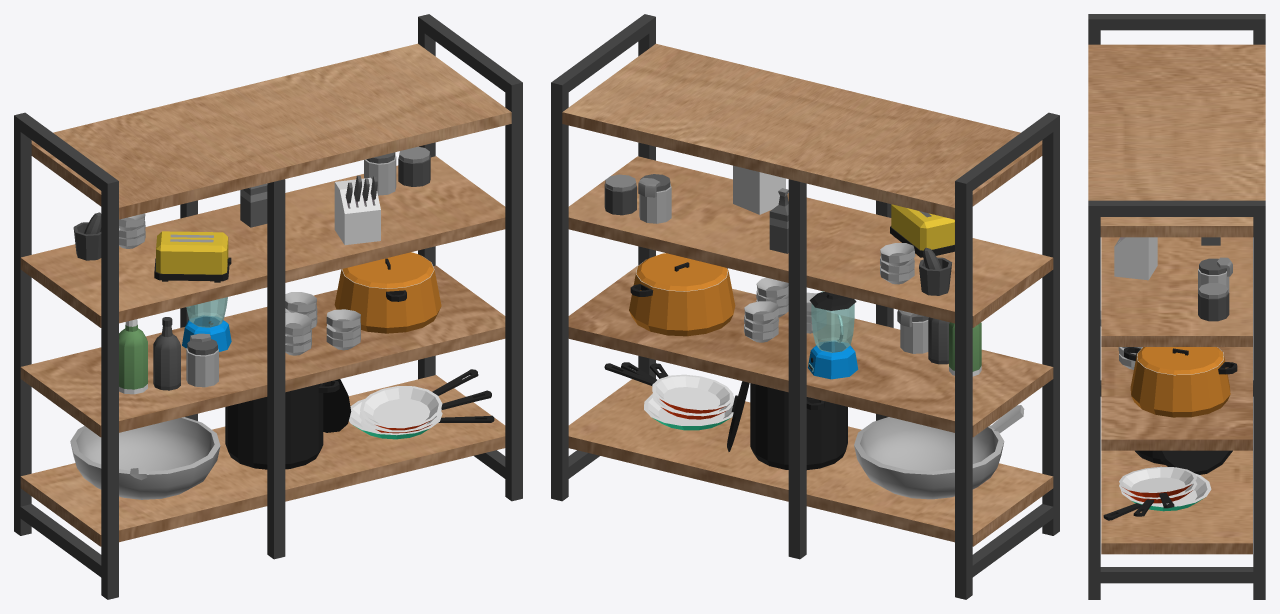
Rendered from Shelf_2.fbx.
3 views of the same model, side by side, from view 1: azimuth 30°, elevation 25°; view 2: azimuth 150°, elevation 25°; view 3: azimuth 270°, elevation 25° (orthographic). The views are drawn at different scales.
Visible parts, largest first — view 1: Shelve_2; view 2: Shelve_2; view 3: Shelve_2.
Boxes of the visible parts, left/top/right/bottom form: Shelve_2: left=14, top=14, right=522, bottom=599; Shelve_2: left=551, top=14, right=1059, bottom=599; Shelve_2: left=1088, top=14, right=1265, bottom=599.
Size of the model in its own units: 558 by 534 by 218.
Materials: 19 (1 with a texture image).
